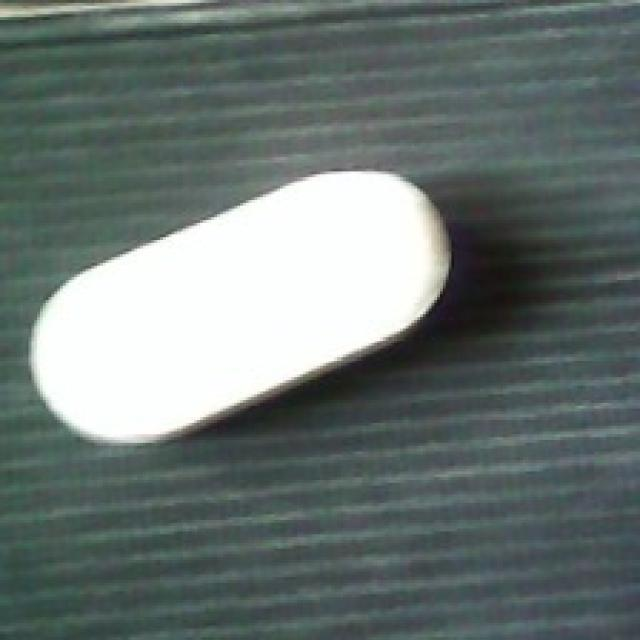no-defect: (29, 164, 454, 446)
